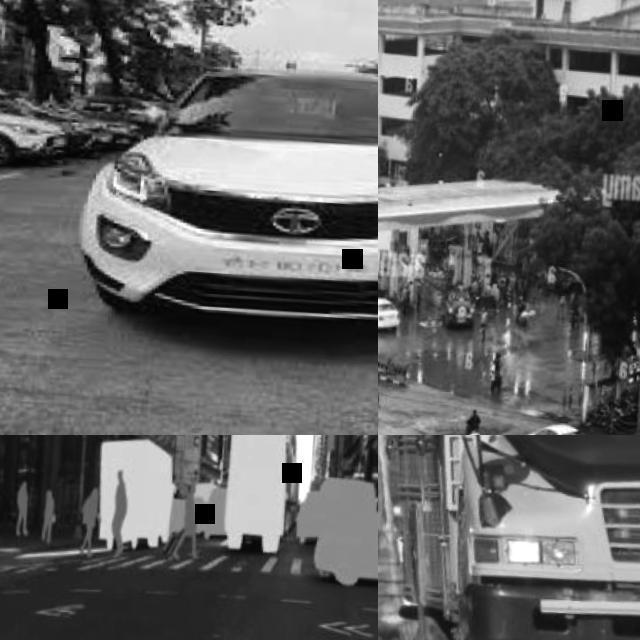car: (78, 2, 384, 325), (1, 2, 112, 166)
